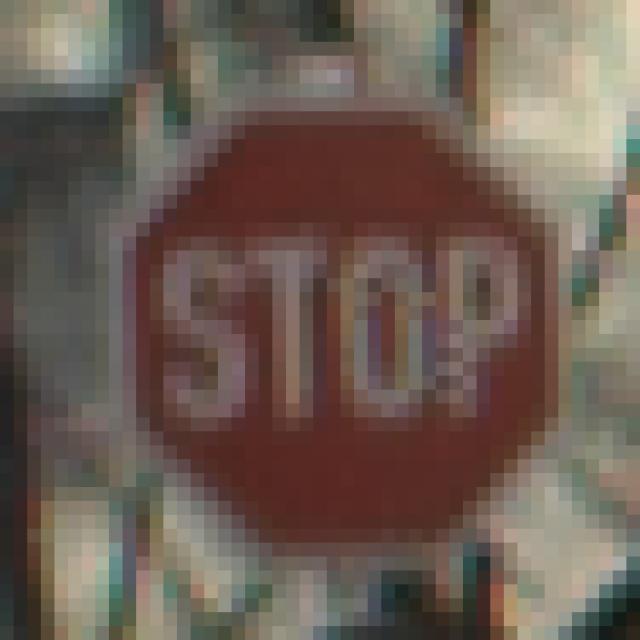STOP: (83, 71, 559, 558)
